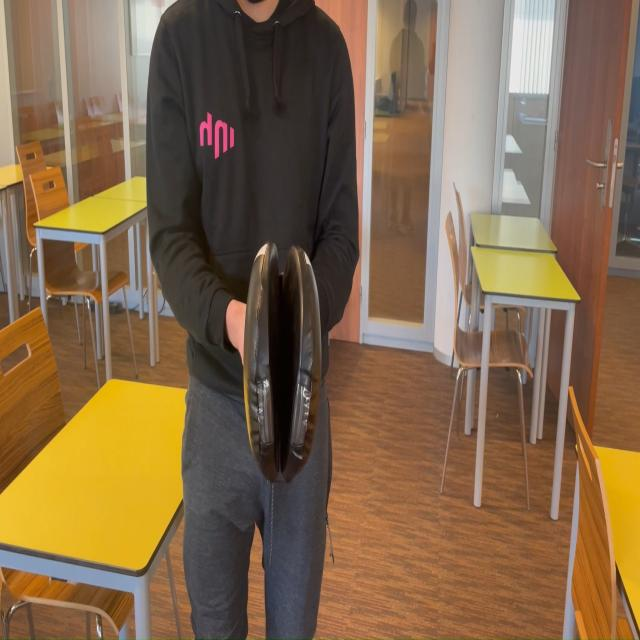paddle: (245, 240, 318, 477)
